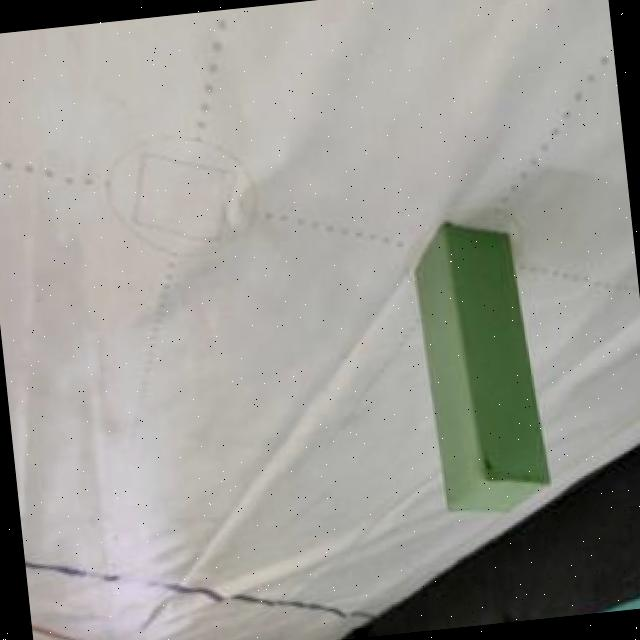greenbox: (407, 211, 555, 522)
